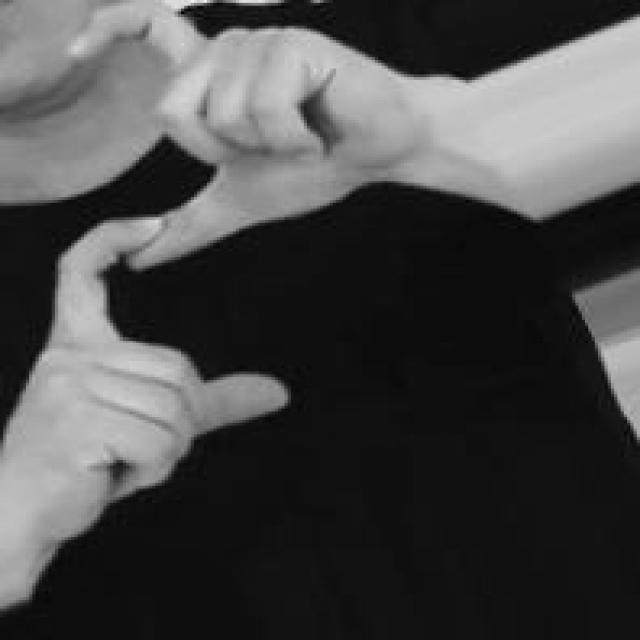S: (0, 0, 423, 604)
